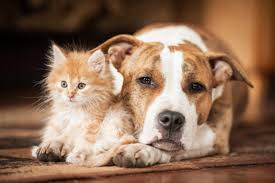cat: (41, 42, 110, 107)
dog: (101, 32, 257, 155)
